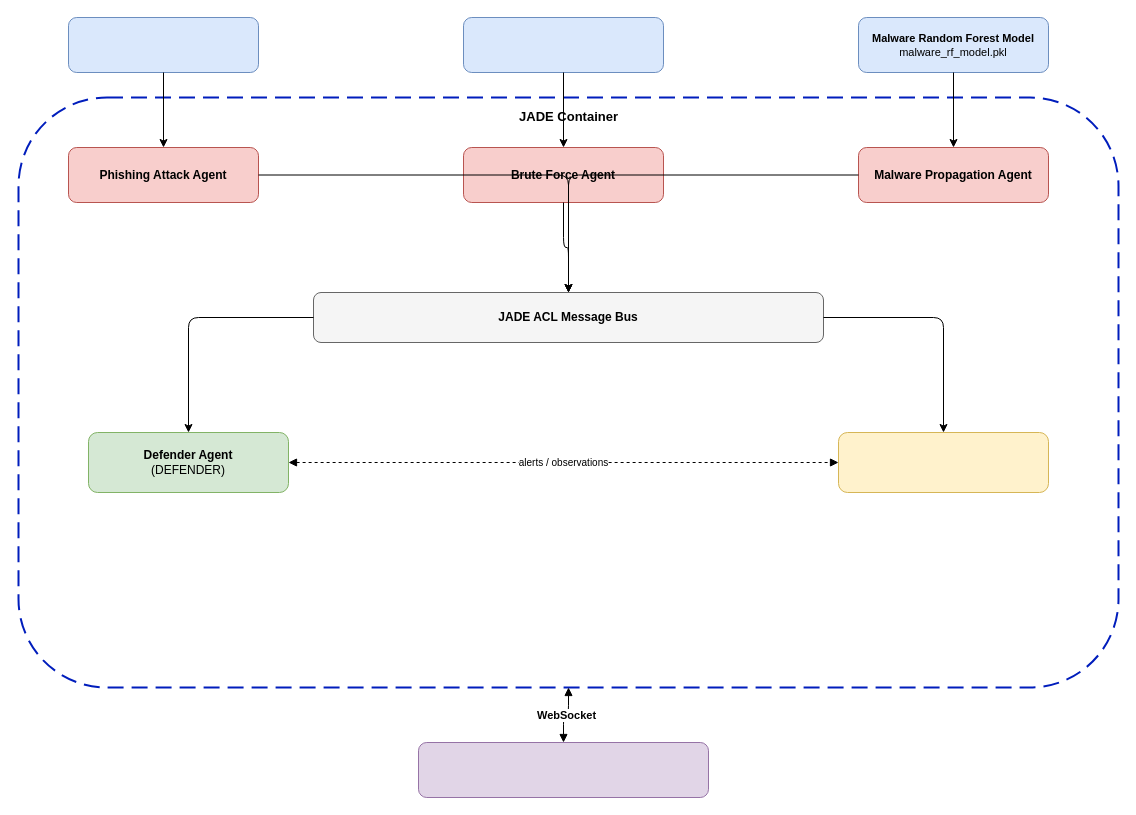
Image size: 1136x815. Some labels were removed from this diagram. Each missing label, with the centre of its shape:
Brute Force Random Forest Model Brute_force_model.pkl: [563,44]
Monitoring / Scoring Agent: [943,462]
Phishing Random Forest Model phishing_model.pkl: [163,44]
Training UI / Frontend: [563,770]
